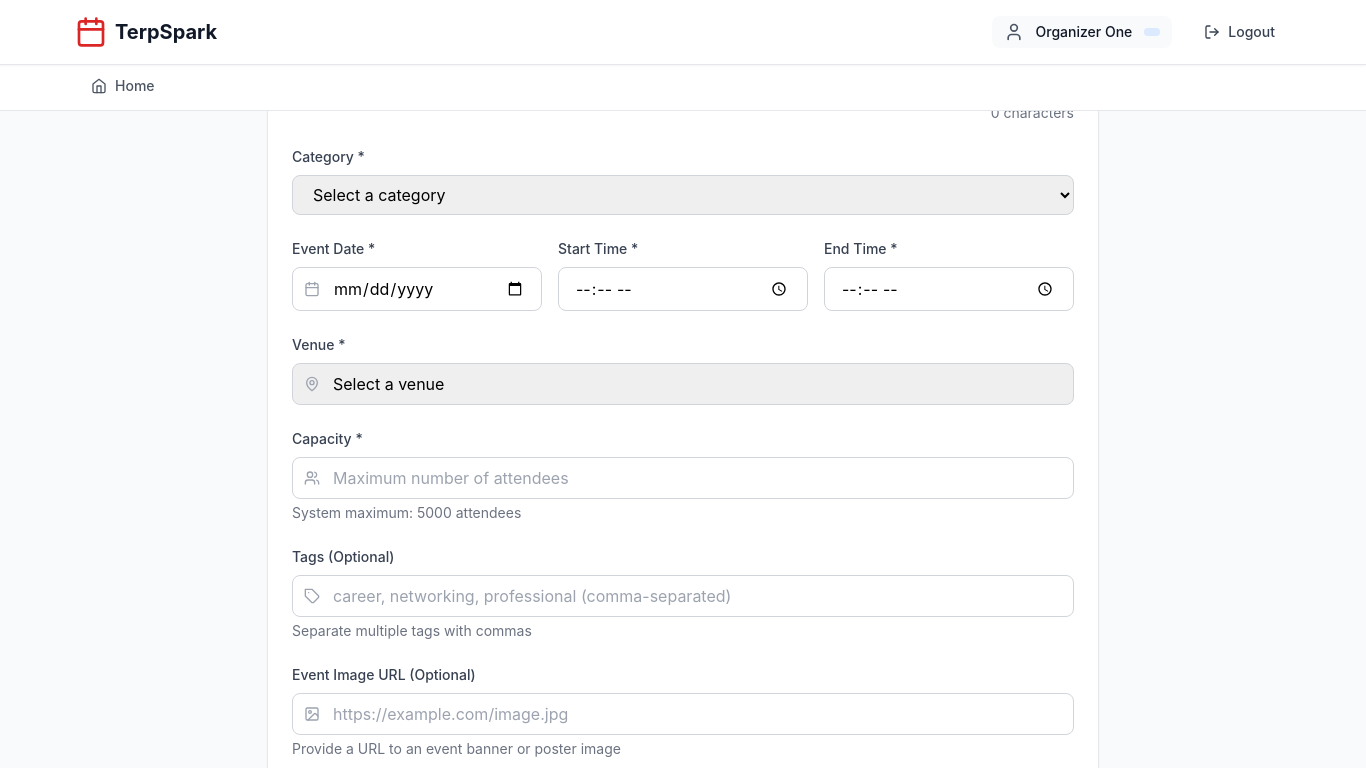
CreateEventPage › shows venue details when a venue is selected
This screenshot has width=1366, height=768.
(page scrolled)
Step 1. Select "Stamp Student Union - Stamp Student Union (Capacity: 500)" in the dropdown below "Venue *" → {"x": 683, "y": 384}, box [292,363,1074,405]
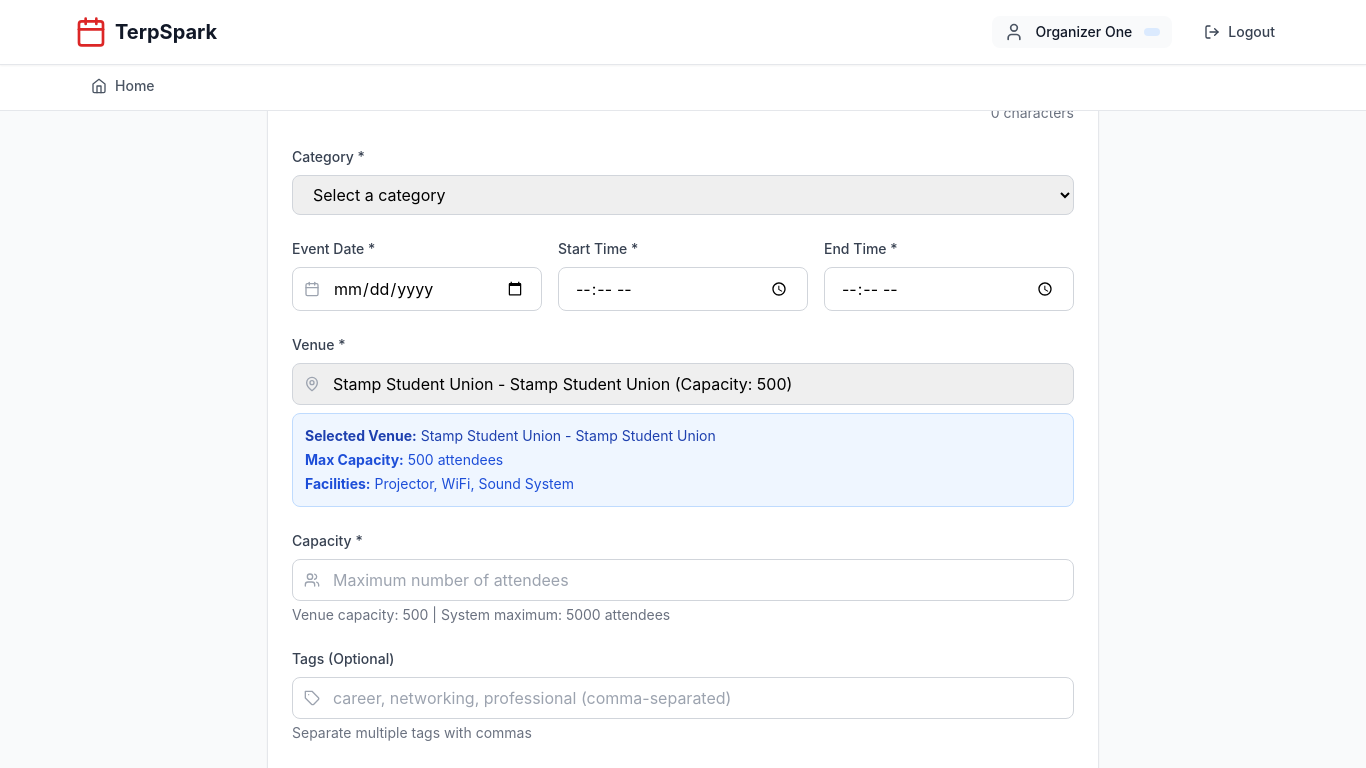
Expected: the text "Selected Venue:" is shown, [305,427,417,444]
Expected: the text "Selected Venue: Stamp Student Union - Stamp Student Union" is shown, [305,427,716,444]
Expected: the text "Max Capacity:" is shown, [305,451,404,468]
